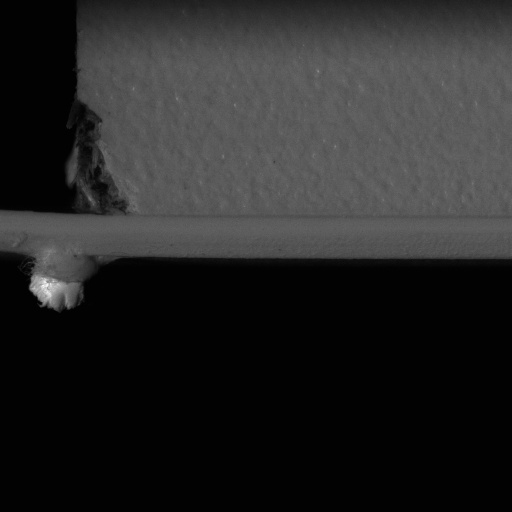bengque: (68, 100, 140, 219)
changdai: (0, 206, 65, 258)
